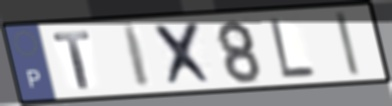8: (213, 16, 263, 85)
I: (120, 23, 153, 90), (332, 9, 364, 78)
L: (267, 16, 319, 79)
T: (50, 29, 93, 91)
X: (150, 20, 218, 89)
